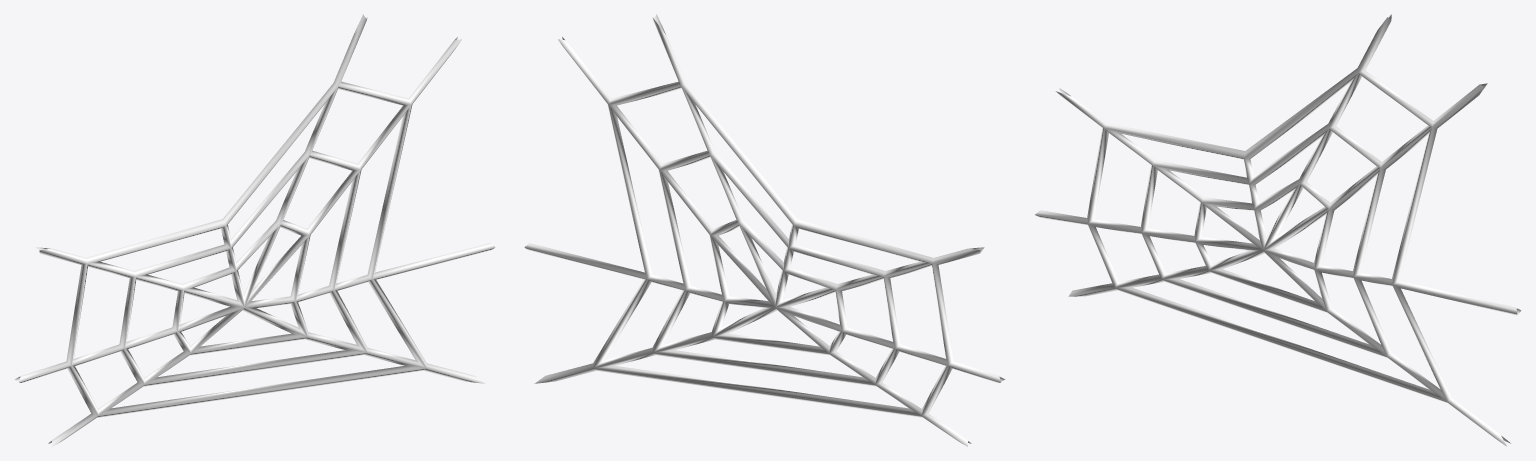
Rendered from Web.fbx.
3 views of the same model, side by side, from view 1: azimuth 30°, elevation 25°; view 2: azimuth 150°, elevation 25°; view 3: azimuth 330°, elevation 25° (orthographic).
Parts seen in each view (by area): view 1: Web; view 2: Web; view 3: Web.
Part boxes in pixels (left/top/right/bottom): Web: left=14, top=14, right=495, bottom=446; Web: left=524, top=14, right=1005, bottom=446; Web: left=1035, top=14, right=1521, bottom=446.
Size of the model in its own units: 272 by 216 by 4.1.
